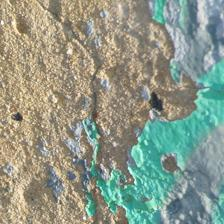Crack: (39, 6, 108, 221)
